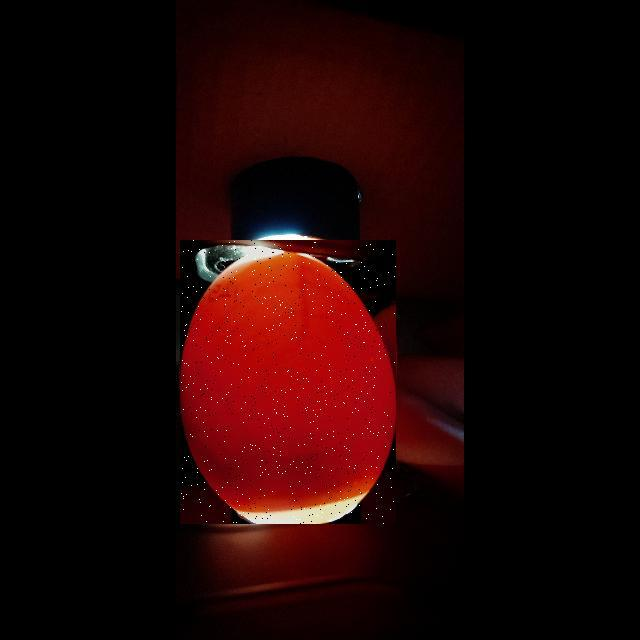Fertile: (180, 240, 396, 524)
